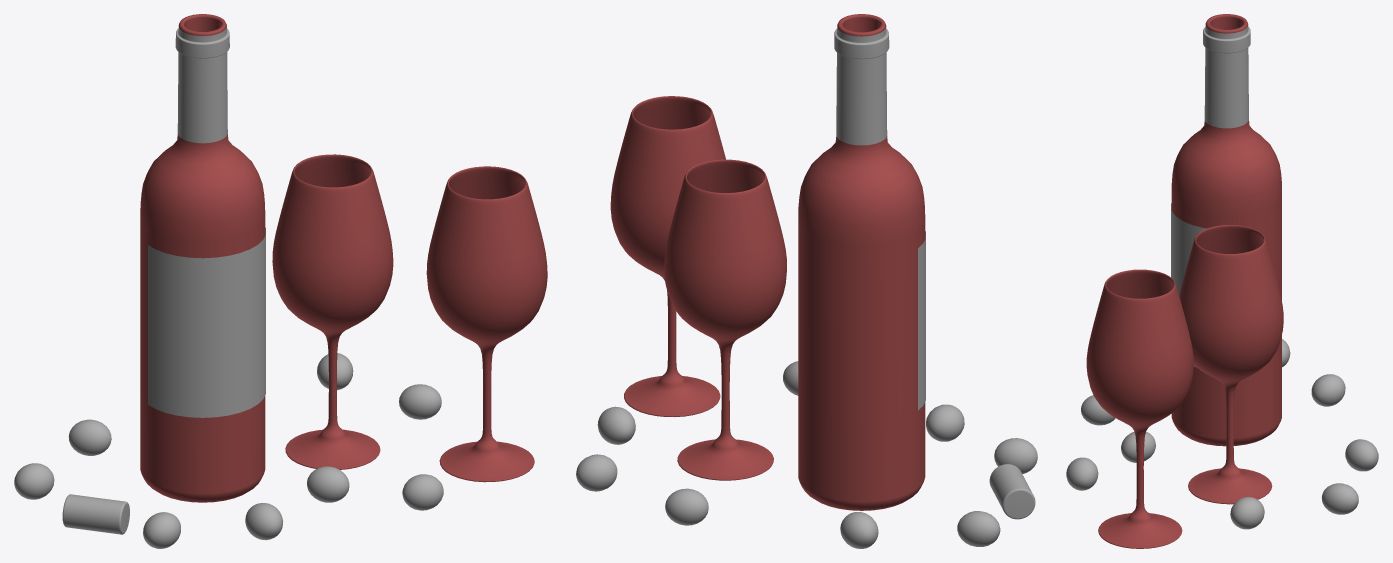
Rendered from Wine_4.fbx.
The picture shows the model from 3 angles, left to right: view 1: azimuth 30°, elevation 25°; view 2: azimuth 150°, elevation 25°; view 3: azimuth 270°, elevation 25°; orthographic projection. The views are drawn at different scales.
Visible parts, largest first — view 1: Glass2, Wineglass:F; view 2: Glass2, Wineglass:F; view 3: Glass2, Wineglass:F.
Boxes of the visible parts, <box> form: Glass2: <box>140,14,547,502</box>; Wineglass:F: <box>14,25,443,548</box>; Glass2: <box>610,14,925,510</box>; Wineglass:F: <box>576,25,1037,548</box>; Glass2: <box>1086,14,1283,548</box>; Wineglass:F: <box>1066,24,1378,529</box>.
Bounding box in the file's own units: 9.57 × 9.4 × 6.53.
